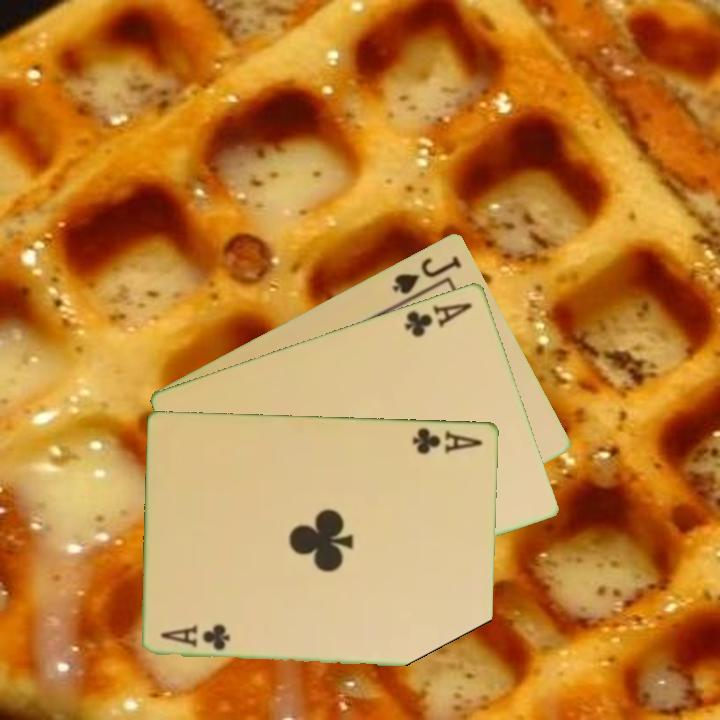Ac: (401, 298, 475, 340), (409, 424, 486, 456), (158, 621, 234, 653)
Js: (388, 252, 465, 297)
